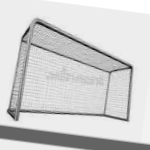goals: (5, 16, 134, 123)
